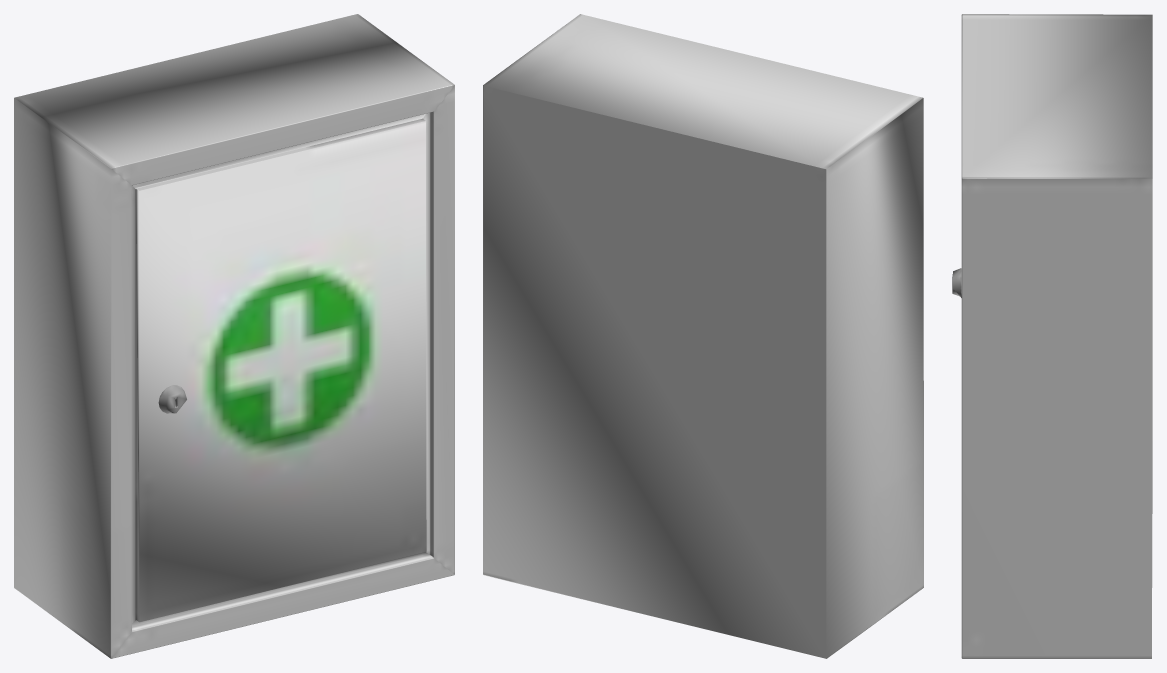
File: med-cupboard.lod1.glb
3 renders of one model, left to right at view 1: azimuth 30°, elevation 25°; view 2: azimuth 150°, elevation 25°; view 3: azimuth 270°, elevation 25°, orthographic. The views are drawn at different scales.
Parts seen in each view (by area): view 1: MedicineWallCupboard_medince-cupboard-wall_Baked_0; view 2: MedicineWallCupboard_medince-cupboard-wall_Baked_0; view 3: MedicineWallCupboard_medince-cupboard-wall_Baked_0.
Boxes of the visible parts, x1,y1,x2,y2 form: MedicineWallCupboard_medince-cupboard-wall_Baked_0: (14,14,454,658); MedicineWallCupboard_medince-cupboard-wall_Baked_0: (483,14,923,658); MedicineWallCupboard_medince-cupboard-wall_Baked_0: (952,14,1152,658).
Bounding box in the file's own units: 0.6 × 0.817 × 0.3082.
Materials: 1 (1 with a texture image).
